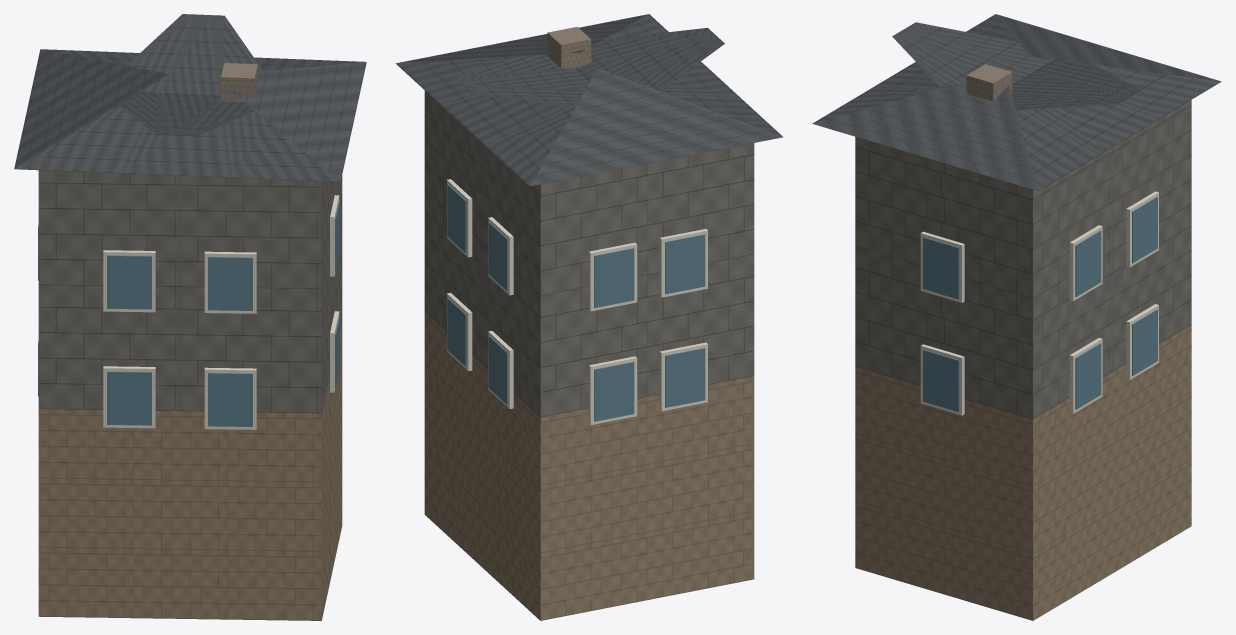
Rendered from core_0043.gltf.
3 views of the same model, side by side, from view 1: azimuth 30°, elevation 25°; view 2: azimuth 150°, elevation 25°; view 3: azimuth 270°, elevation 25° (orthographic). The views are drawn at different scales.
Parts seen in each view (by area): view 1: core_0043; view 2: core_0043; view 3: core_0043.
Part boxes in pixels (<box>): core_0043: <box>14,14,366,620</box>; core_0043: <box>395,14,783,620</box>; core_0043: <box>812,14,1221,620</box>.
Bounding box in the file's own units: 9.63 × 12.35 × 9.4.
Materials: 6 (6 with a texture image).
